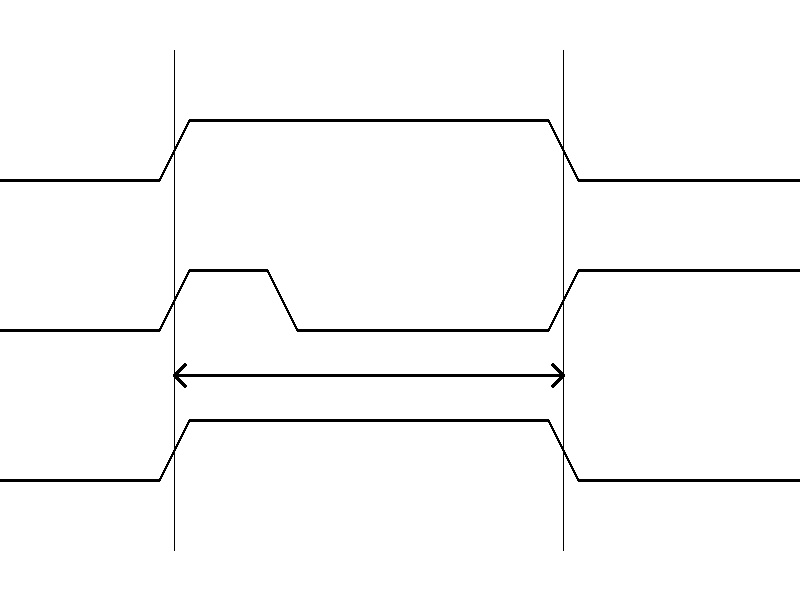double_arrow: (174, 360, 563, 390)
